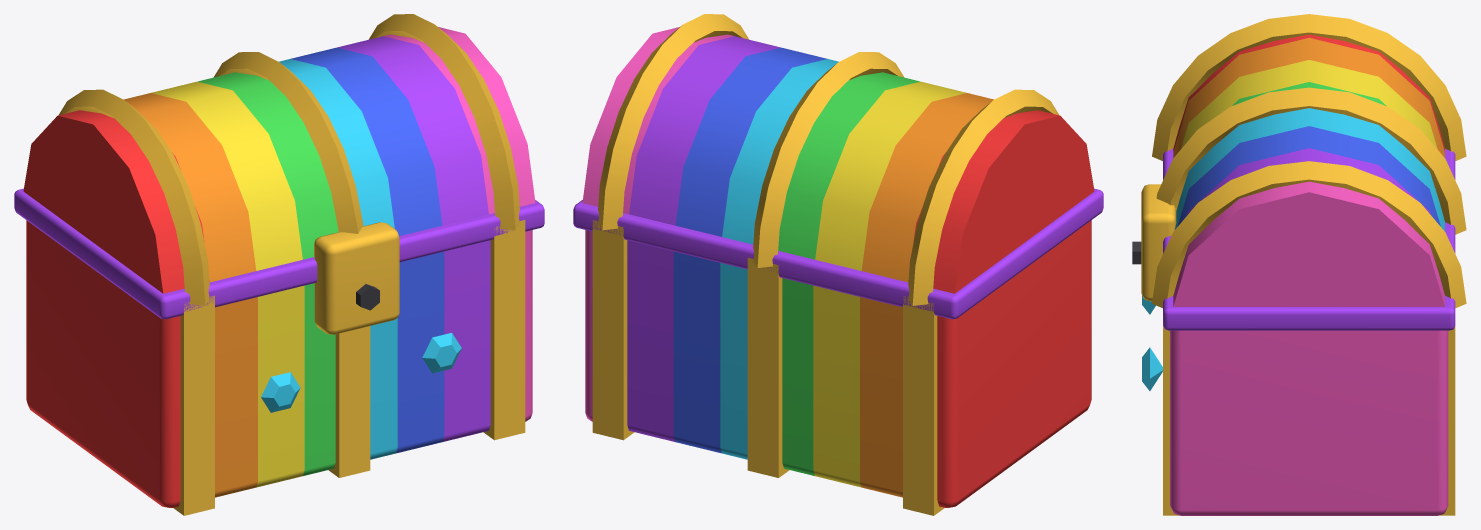
File: RainbowChest.fbx
3 renders of one model, left to right at view 1: azimuth 30°, elevation 25°; view 2: azimuth 150°, elevation 25°; view 3: azimuth 270°, elevation 25°, orthographic. The views are drawn at different scales.
Visible parts, largest first — view 1: RainbowChest; view 2: RainbowChest; view 3: RainbowChest.
Part boxes in pixels (left/top/right/bottom): RainbowChest: left=14, top=14, right=544, bottom=515; RainbowChest: left=573, top=14, right=1103, bottom=515; RainbowChest: left=1132, top=14, right=1466, bottom=515.
Size of the model in its own units: 3.1 by 2.75 by 2.4.
1 material, 1 textured.
